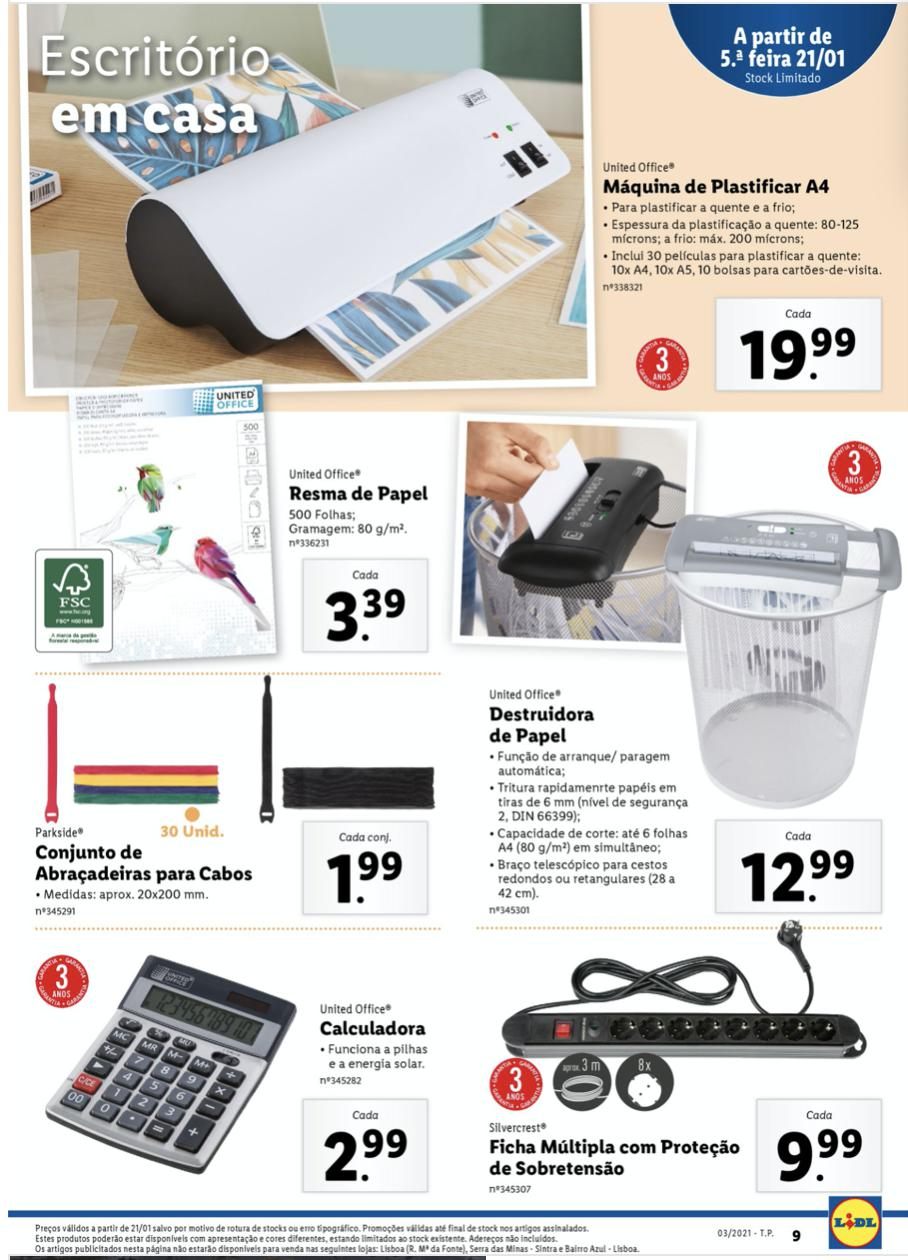name: (27, 840, 260, 887), (486, 1137, 747, 1177), (600, 173, 835, 199), (486, 702, 599, 749), (285, 482, 433, 507), (319, 1016, 432, 1041)
price: (736, 845, 864, 912), (736, 320, 857, 387), (769, 1121, 875, 1190), (316, 581, 413, 648), (318, 846, 414, 913), (321, 1124, 416, 1188)
product: (25, 1, 894, 395), (457, 409, 902, 920), (10, 921, 443, 1224), (449, 929, 908, 1204), (14, 396, 450, 665), (13, 682, 443, 921)
